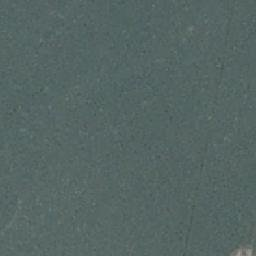debris: (225, 241, 252, 256)
